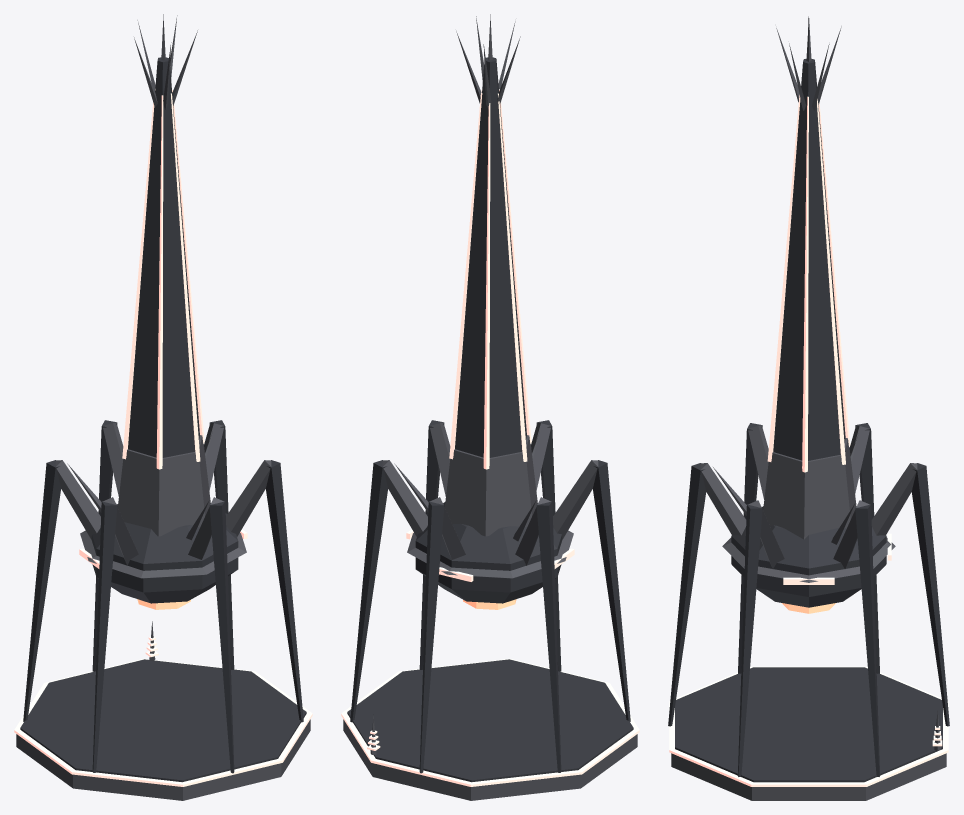
The model's file is zone_high_4_t4.glb.
3 views of the same model, side by side, from view 1: azimuth 30°, elevation 25°; view 2: azimuth 150°, elevation 25°; view 3: azimuth 270°, elevation 25° (orthographic).
Parts seen in each view (by area): view 1: zone_high_4_t4; view 2: zone_high_4_t4; view 3: zone_high_4_t4.
Part boxes in pixels (left/top/right/bottom): zone_high_4_t4: left=14, top=14, right=312, bottom=800; zone_high_4_t4: left=341, top=14, right=639, bottom=800; zone_high_4_t4: left=668, top=16, right=949, bottom=800.
Bounding box in the file's own units: 27.35 × 78.63 × 27.6.
